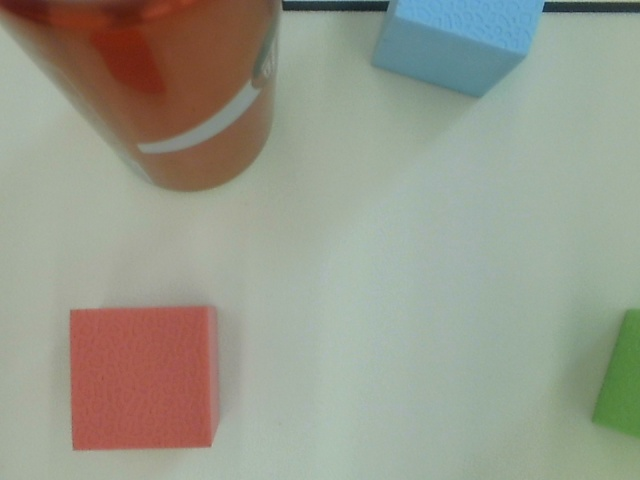bluecube: (366, 1, 549, 103)
cola: (1, 1, 284, 196)
greencube: (581, 303, 640, 436)
redcube: (61, 300, 230, 460)
